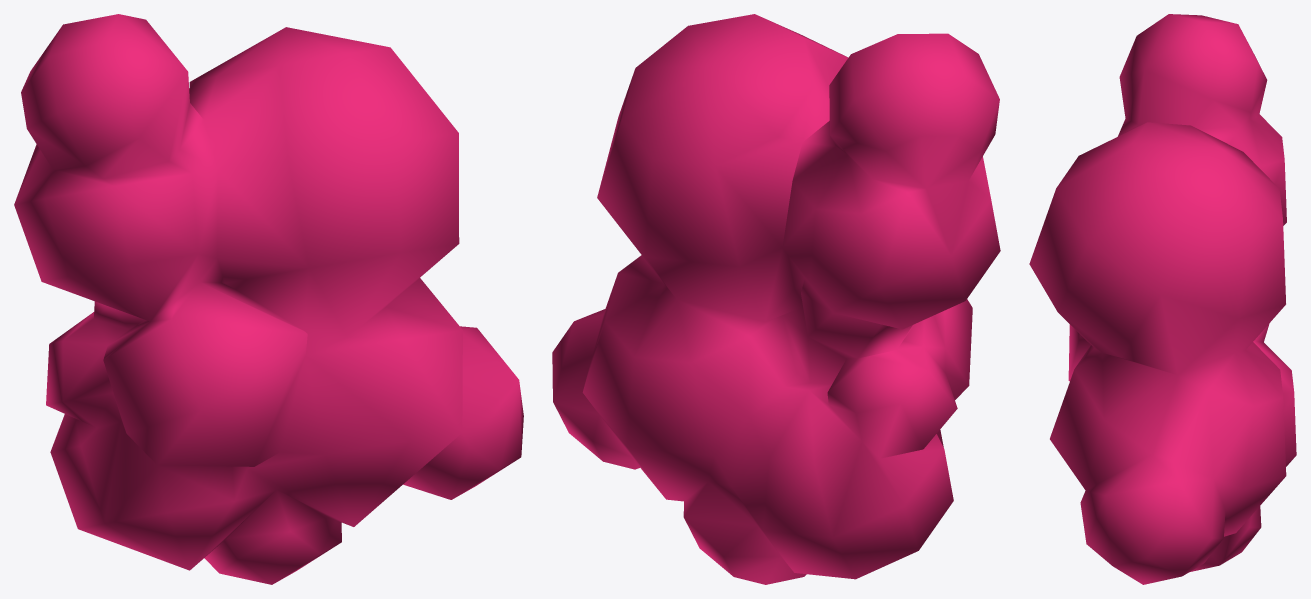
Rendered from web_bublegum_green.FBX.
3 renders of one model, left to right at view 1: azimuth 30°, elevation 25°; view 2: azimuth 150°, elevation 25°; view 3: azimuth 270°, elevation 25°, orthographic. The views are drawn at different scales.
Parts seen in each view (by area): view 1: Sphere011; view 2: Sphere011; view 3: Sphere011.
Part boxes in pixels (bbox=[...]): Sphere011: bbox=[14, 14, 523, 584]; Sphere011: bbox=[552, 14, 1000, 584]; Sphere011: bbox=[1029, 14, 1296, 584].
Size of the model in its own units: 15.63 by 19.09 by 9.52.
